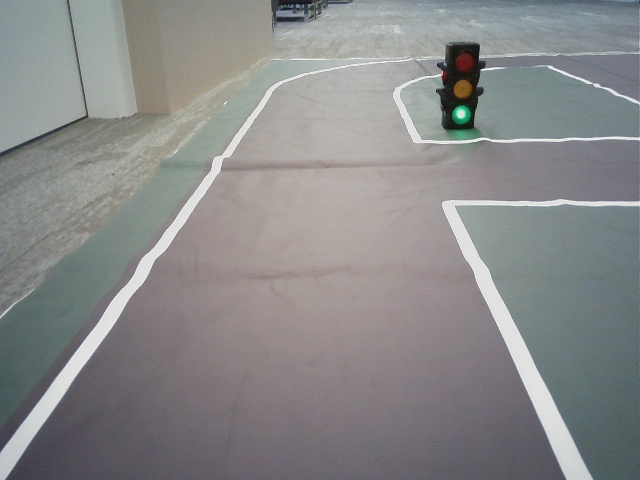green: (447, 49, 477, 129)
